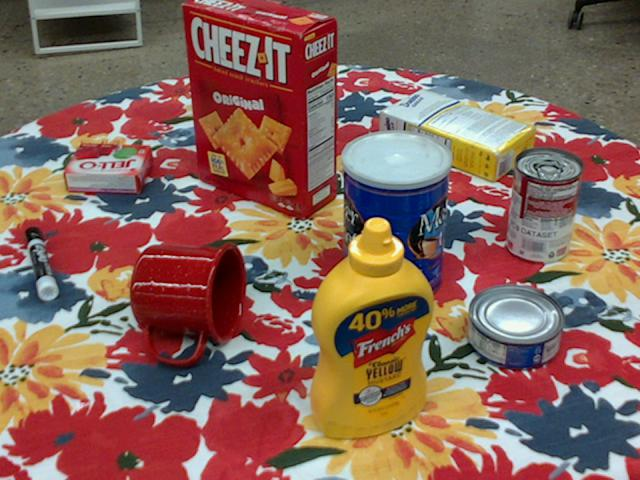cracker_box: (183, 0, 338, 214)
gelatin_box: (63, 144, 152, 193)
large_marker: (23, 226, 57, 299)
master_chef_can: (341, 130, 451, 307)
mug: (129, 243, 244, 365)
mustard_bottle: (309, 218, 432, 439)
potted_meat_can: (196, 49, 277, 129)
sugar_box: (379, 87, 536, 182)
tomato_soup_can: (506, 147, 582, 263)
tuna_fish_can: (465, 286, 563, 371)
